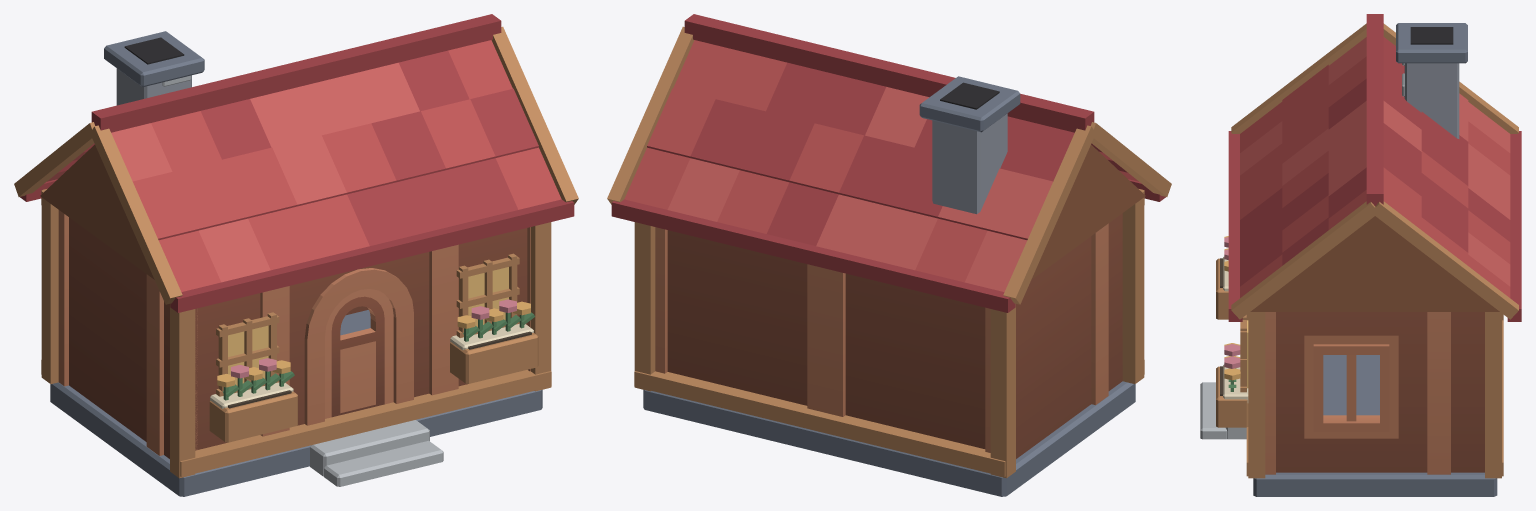
The model's file is cabin.glb.
The picture shows the model from 3 angles, left to right: view 1: azimuth 30°, elevation 25°; view 2: azimuth 150°, elevation 25°; view 3: azimuth 270°, elevation 25°; orthographic projection. The views are drawn at different scales.
Parts seen in each view (by area): view 1: cabin_建筑共用调色板.012, cabin_fantasy-town-kit 调色板; view 2: cabin_建筑共用调色板.012, cabin_fantasy-town-kit 调色板; view 3: cabin_建筑共用调色板.012, cabin_fantasy-town-kit 调色板.
Part boxes in pixels (bbox=[...]): cabin_建筑共用调色板.012: bbox=[14, 14, 578, 496]; cabin_fantasy-town-kit 调色板: bbox=[58, 210, 530, 458]; cabin_建筑共用调色板.012: bbox=[607, 14, 1171, 496]; cabin_fantasy-town-kit 调色板: bbox=[655, 213, 1122, 458]; cabin_建筑共用调色板.012: bbox=[1200, 14, 1521, 496]; cabin_fantasy-town-kit 调色板: bbox=[1265, 312, 1484, 474].
Bounding box in the file's own units: 4.59 × 3.86 × 3.4.
2 materials, 2 textured.
